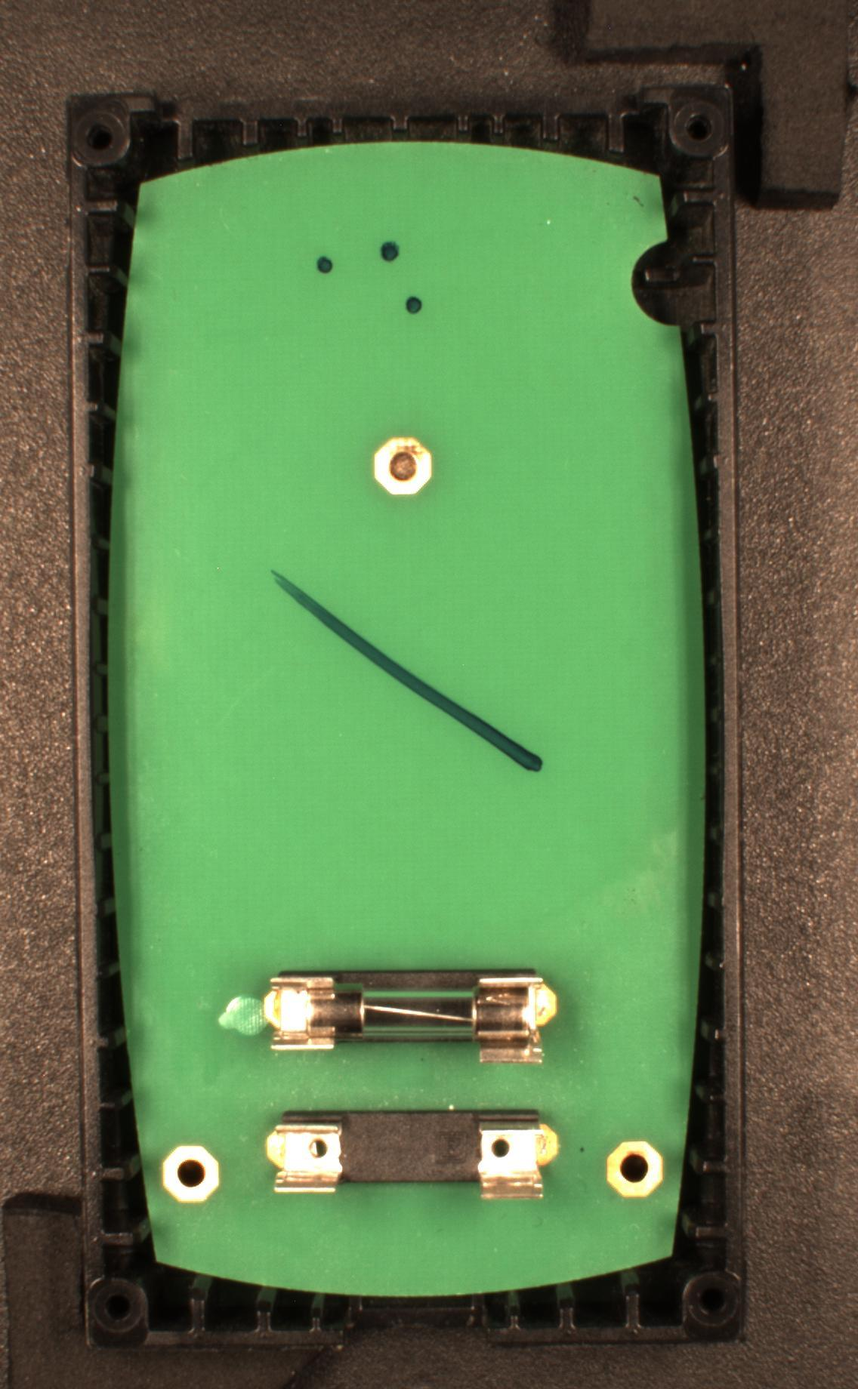Linijsko Ostecene: (267, 563, 552, 776)
Nepostojanje osiguraca: (264, 1107, 560, 1203)
Tockasto Ostecenje: (379, 238, 402, 263), (404, 293, 424, 315), (315, 255, 334, 276)
